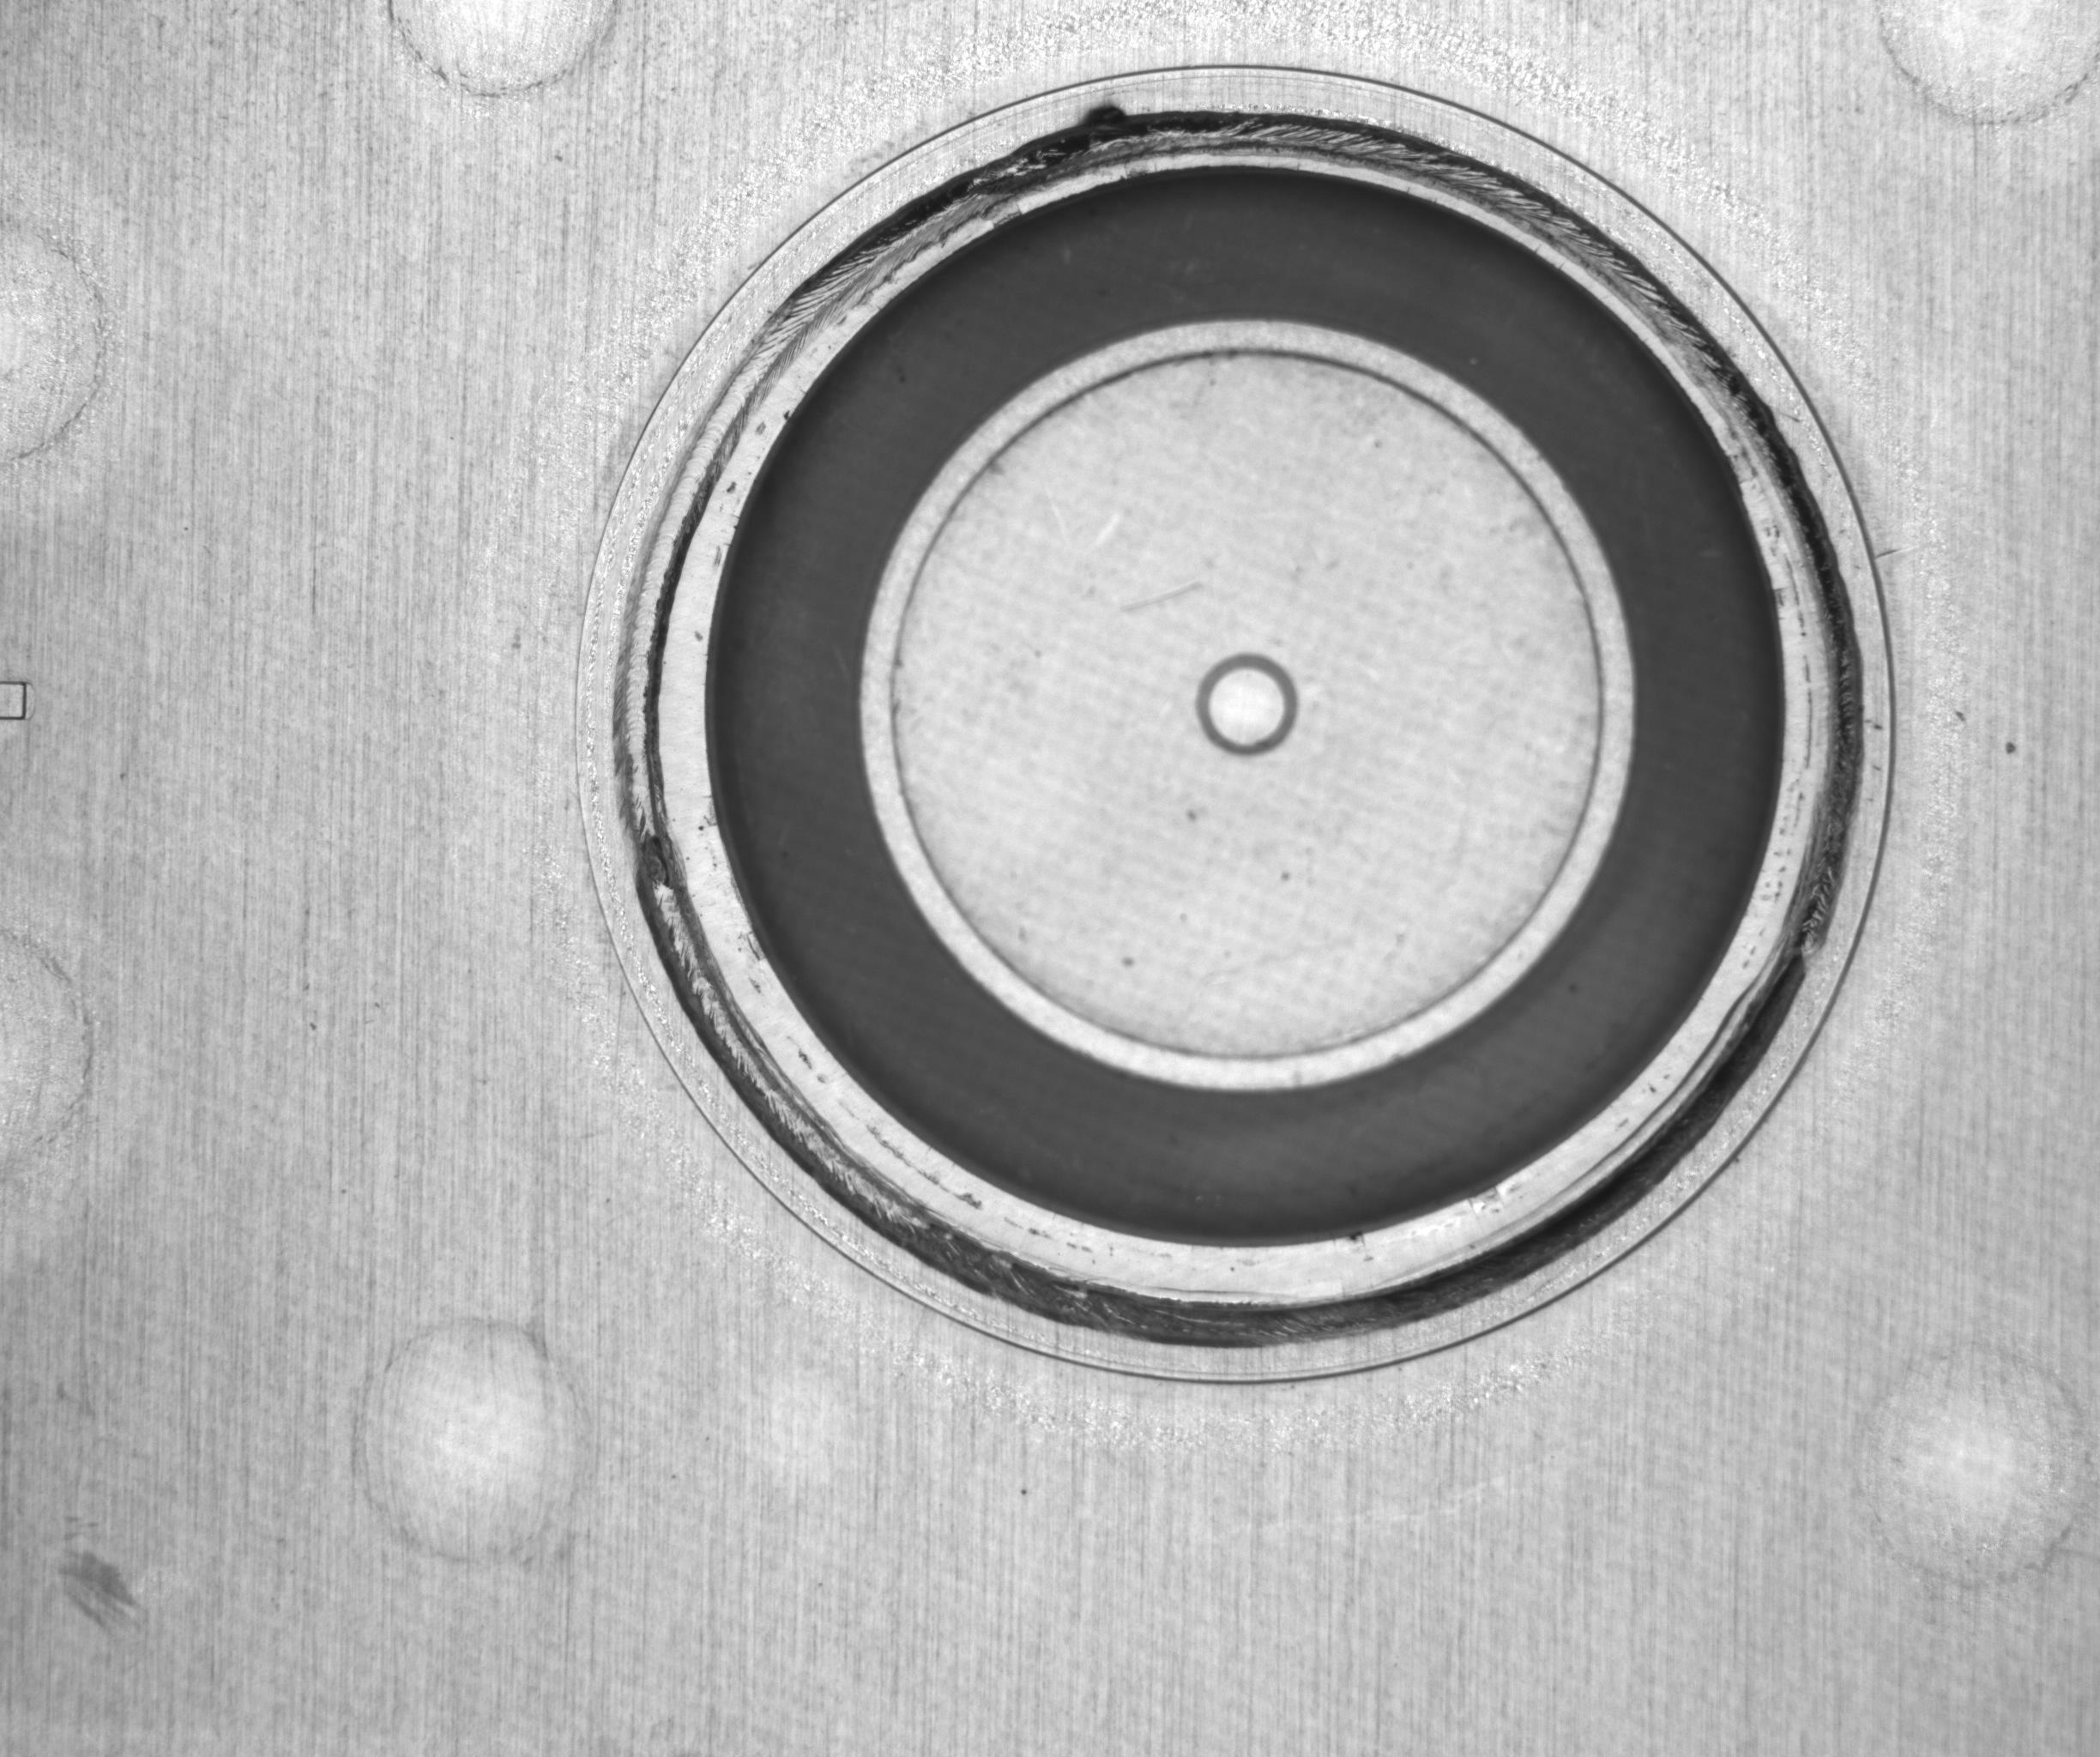weldtoohigh: (556, 42, 1915, 1394)
